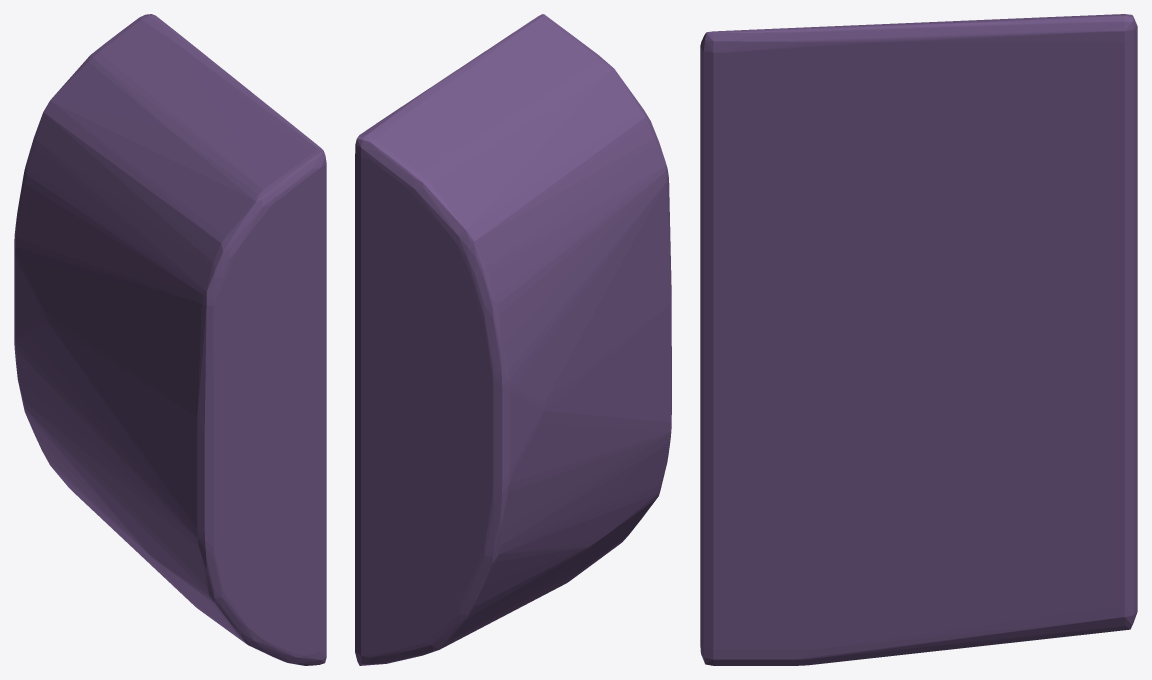
The model's file is right_f_middle_part_1.obj.
3 views of the same model, side by side, from view 1: azimuth 30°, elevation 25°; view 2: azimuth 150°, elevation 25°; view 3: azimuth 270°, elevation 25° (orthographic). The views are drawn at different scales.
Bounding box in the file's own units: 4.8 × 16.8 × 10.28.
